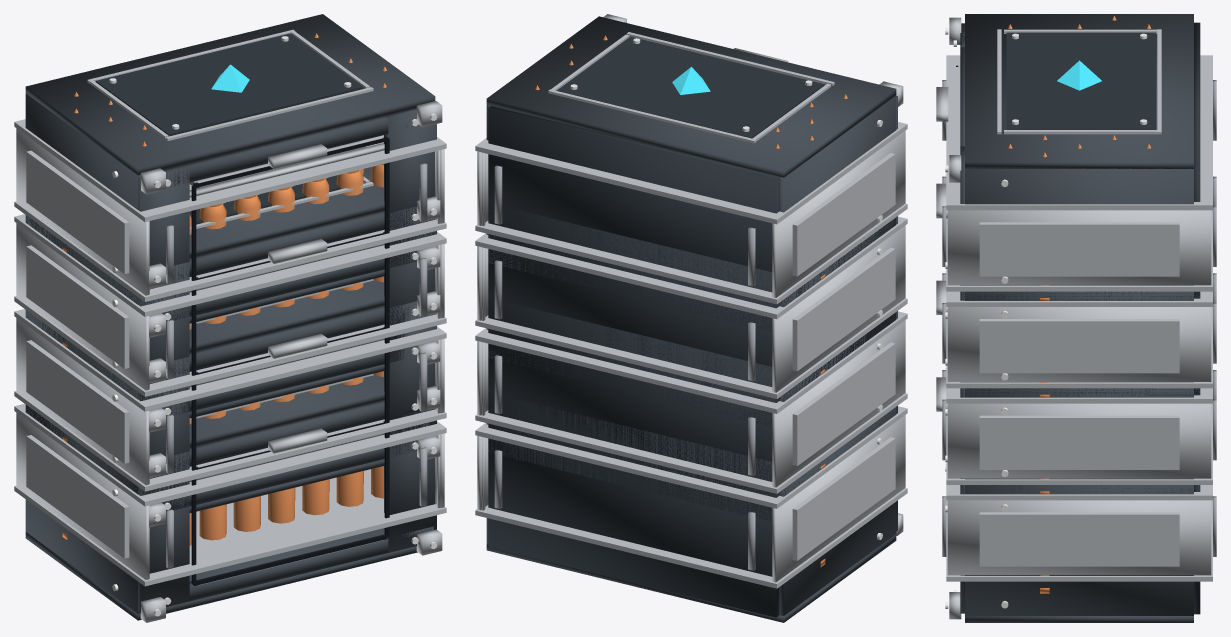
File: ammo.glb
The picture shows the model from 3 angles, left to right: view 1: azimuth 30°, elevation 25°; view 2: azimuth 150°, elevation 25°; view 3: azimuth 270°, elevation 25°; orthographic projection. The views are drawn at different scales.
Bounding box in the file's own units: 3.83 × 5.66 × 2.94.
